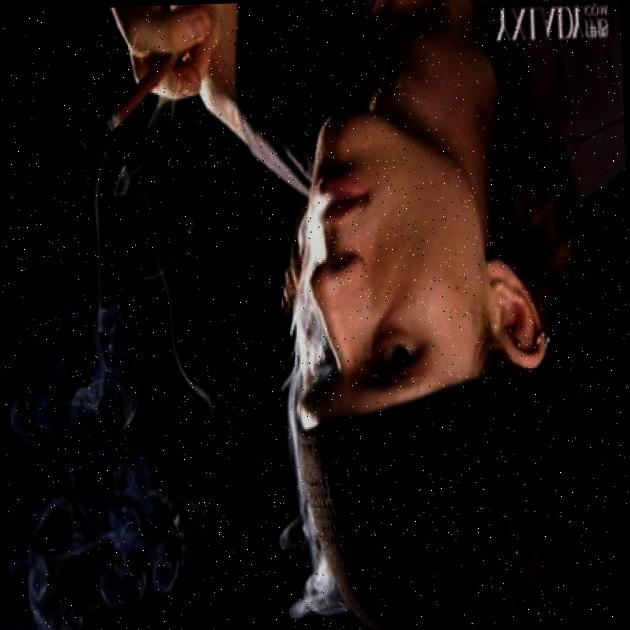smoke: (0, 306, 215, 630)
